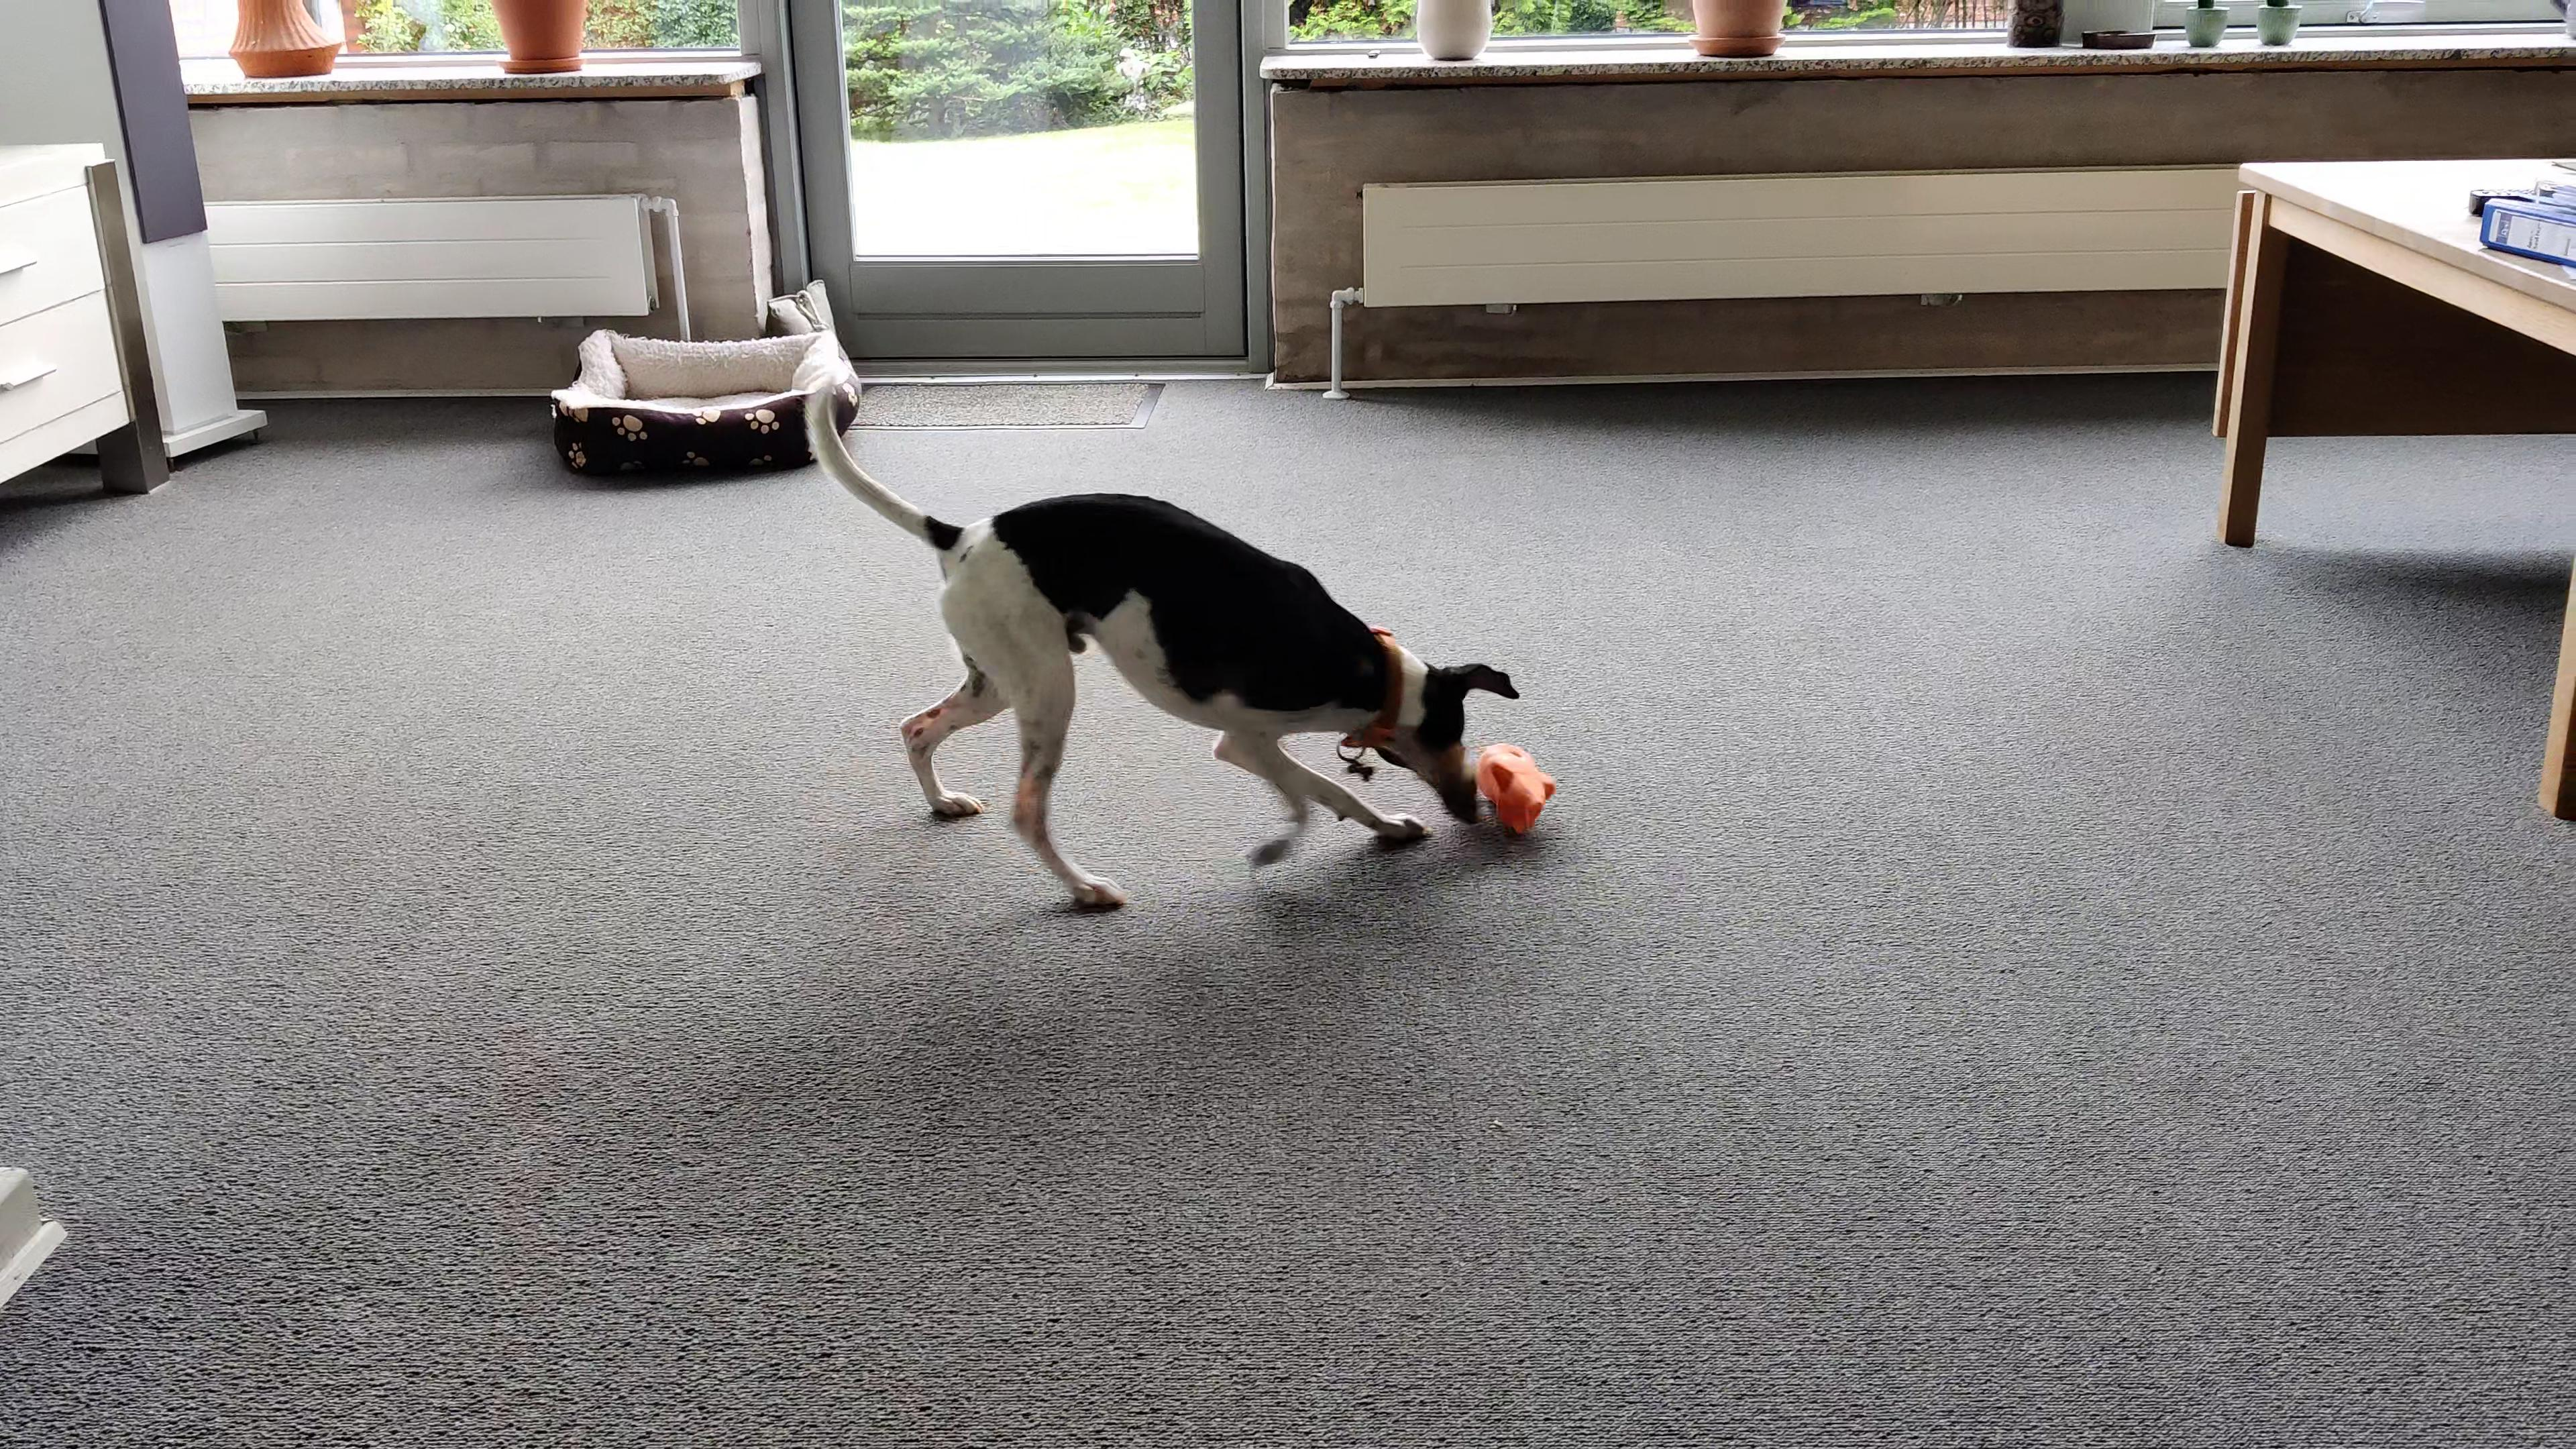Dog: (794, 370, 1516, 916)
